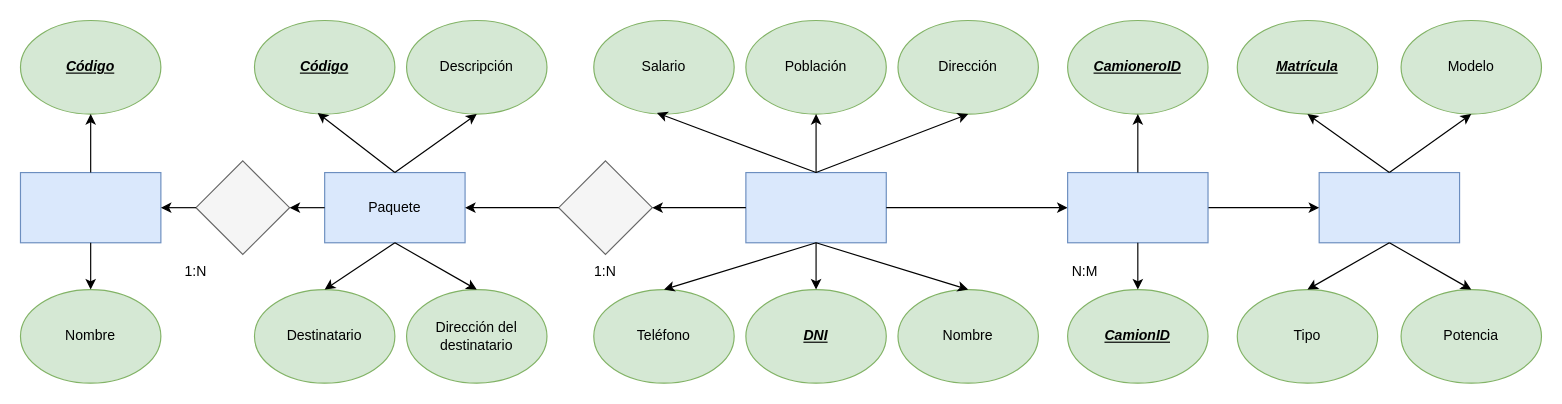
Image size: 1562x404. Some labels were removed from this diagram. The centre of each missing label's shape, as x and y in pixels:
Camionero: point 815,207
CamioneroCamión: point 1137,207
Camión: point 1389,207
Distribuye: point 605,207
Llega: point 242,207
Provincia: point 90,207
